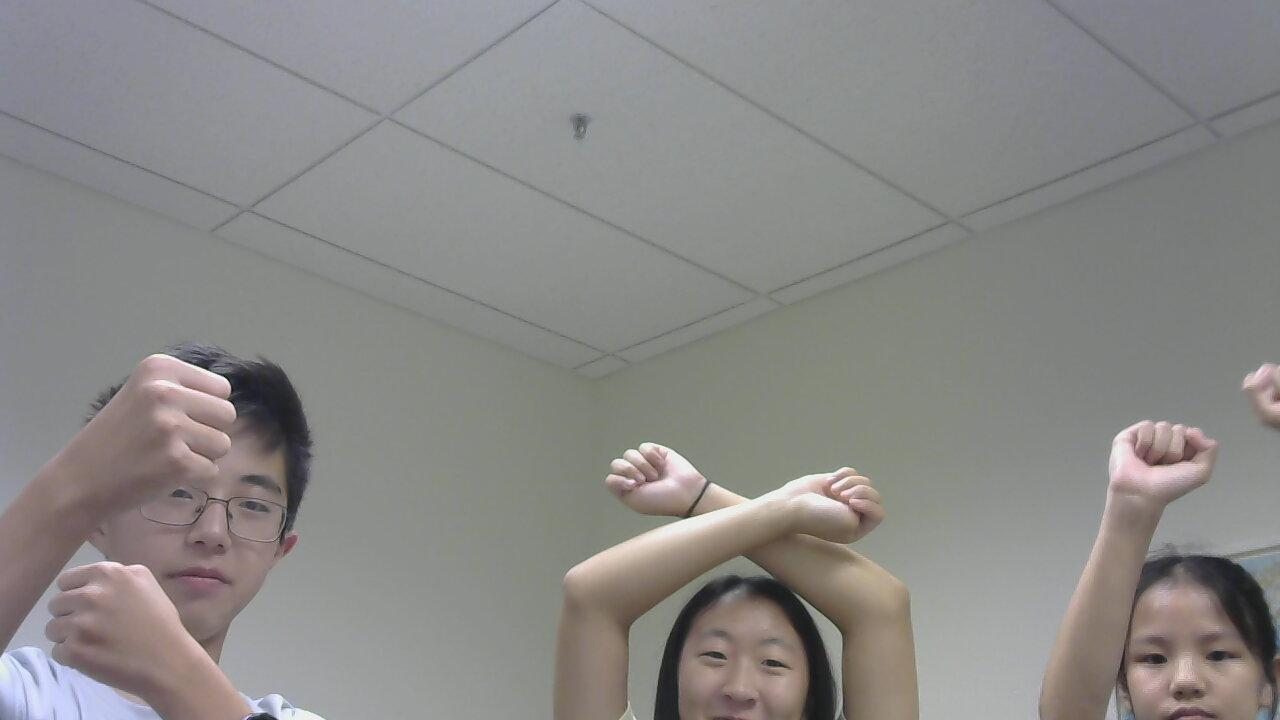fist: (56, 352, 261, 523), (36, 544, 217, 720), (1086, 407, 1215, 533), (750, 457, 923, 543), (601, 442, 727, 538)
